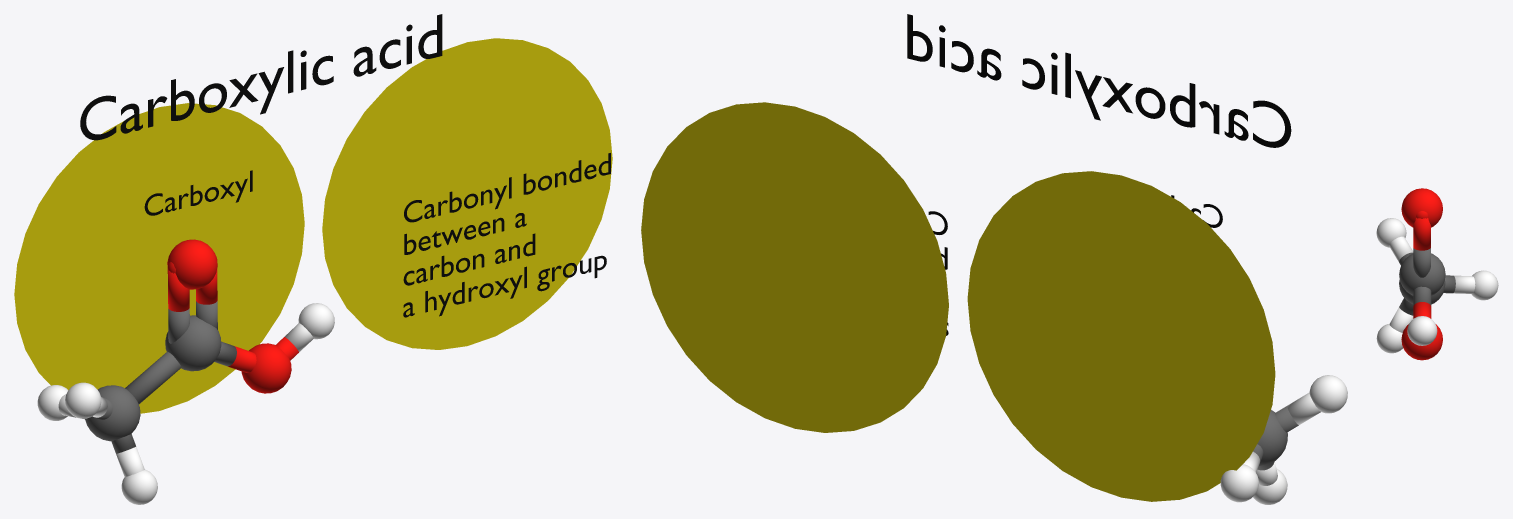
Rendered from 5carboxylic_acid.glb.
The picture shows the model from 3 angles, left to right: view 1: azimuth 30°, elevation 25°; view 2: azimuth 150°, elevation 25°; view 3: azimuth 270°, elevation 25°; orthographic projection. The views are drawn at different scales.
Parts seen in each view (by area): view 1: Circle.001_3, Circle_0, ethanoic acid_5, Text.004_7, Text.003_6, Text.005_8; view 2: Circle.001_3, Circle_0, Text.003_6, ethanoic acid_5; view 3: ethanoic acid_5.
Part boxes in pixels (x1,y1,x2,y2): Circle.001_3: [322, 38, 612, 349]; Circle_0: [14, 103, 304, 413]; ethanoic acid_5: [37, 239, 334, 504]; Text.004_7: [403, 153, 610, 317]; Text.003_6: [80, 14, 442, 140]; Text.005_8: [144, 170, 252, 215]; Circle.001_3: [641, 102, 948, 432]; Circle_0: [967, 171, 1275, 501]; Text.003_6: [907, 14, 1291, 147]; ethanoic acid_5: [1220, 375, 1347, 504]; ethanoic acid_5: [1376, 188, 1498, 360].
Bounding box in the file's own units: 2.06 × 1.29 × 0.4356.
